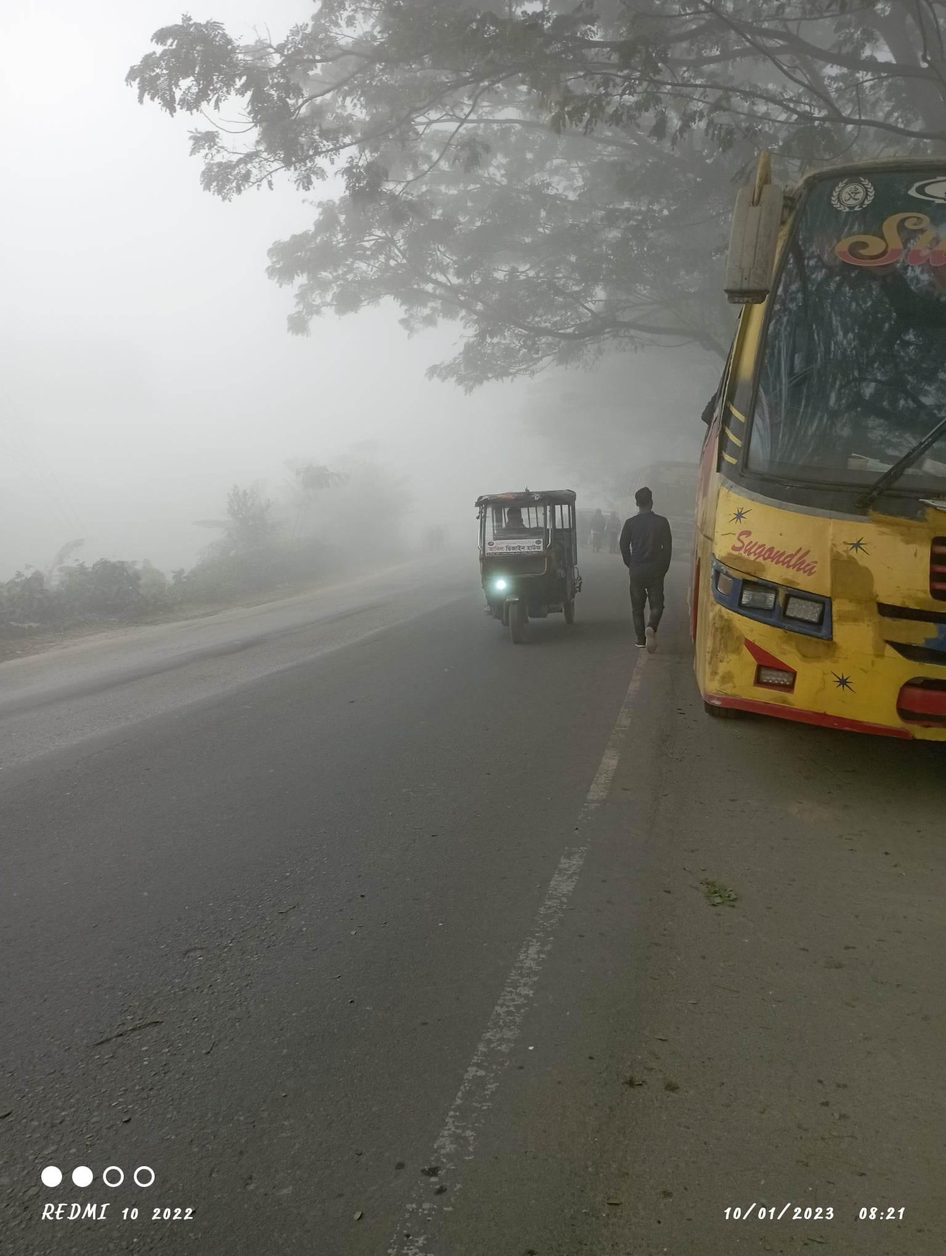Bus: (689, 129, 946, 795)
Car: (451, 463, 593, 658)
